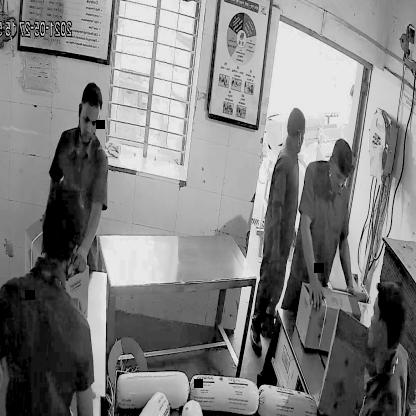no_goggles: (330, 166, 352, 190), (76, 111, 102, 131)
